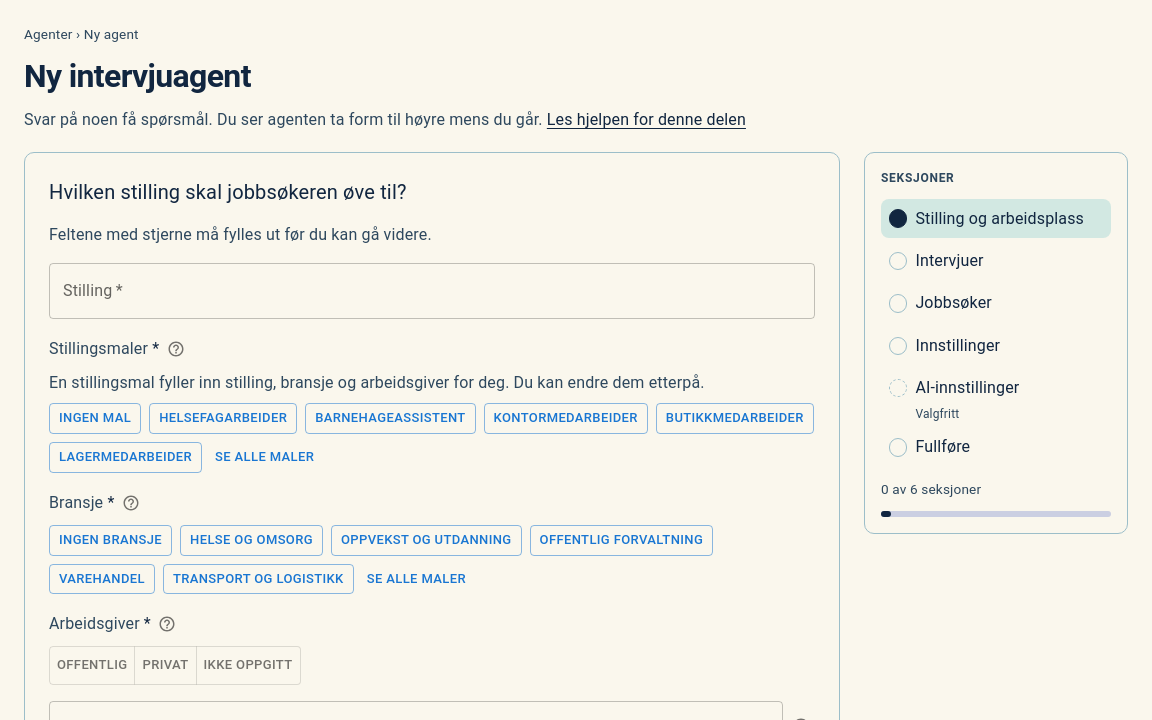
Scenario: /configure › fills in the job title, industry and employer from the chosen stillingsmal
Click the button "Butikkmedarbeider" at (735, 419), box [656,403,814,434]
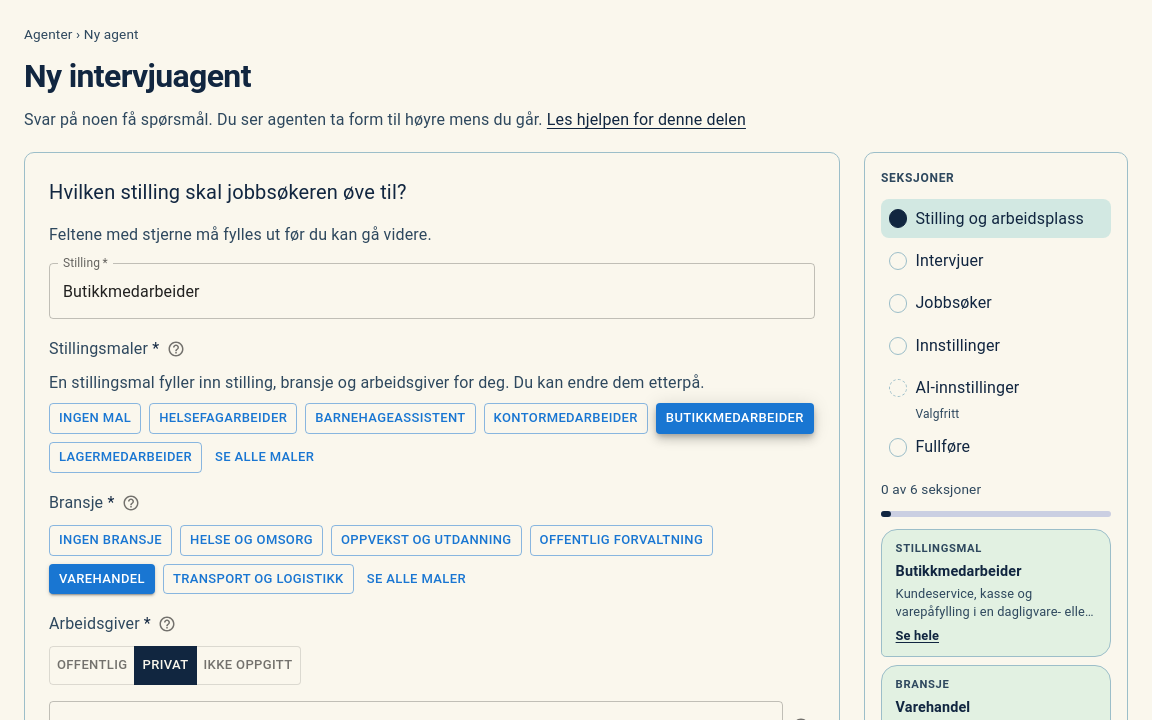
Result: the field labelled "Stilling *" holds "Butikkmedarbeider" at [49,263,815,319]
# Another stillingsmal replaces the title the first one filled in.
Click the button "Helsefagarbeider" at (223, 419), box [149,403,297,434]
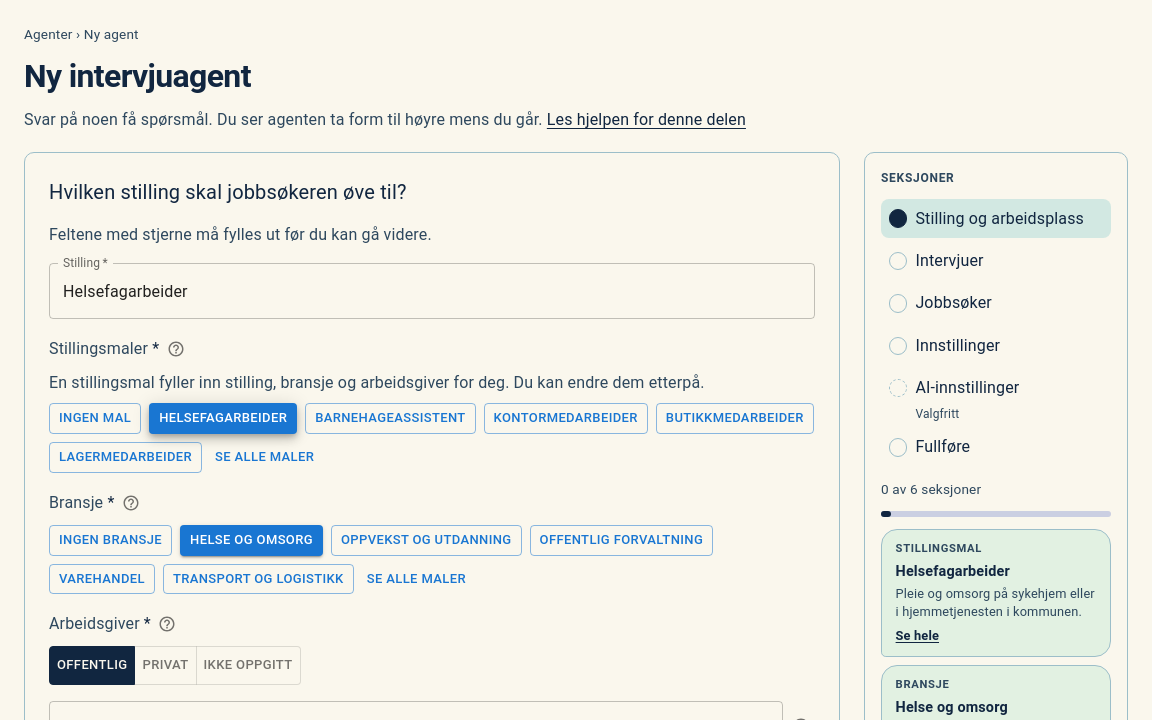
Result: the field labelled "Stilling *" holds "Helsefagarbeider" at [49,263,815,319]
